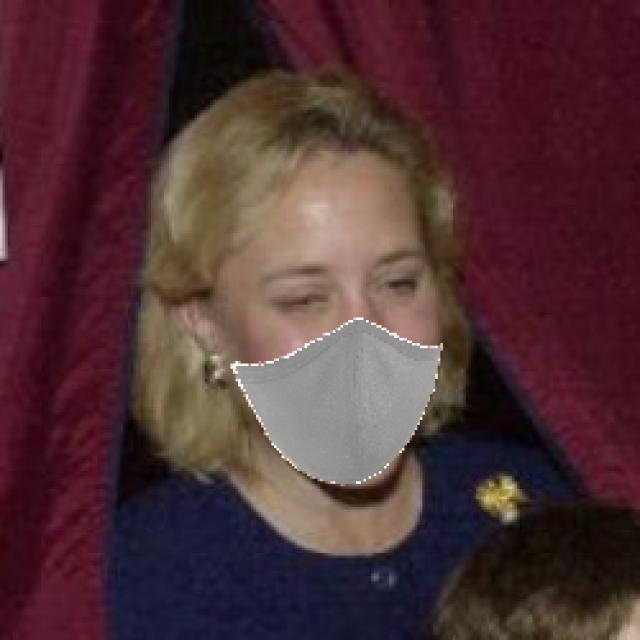mask: (209, 314, 439, 494)
